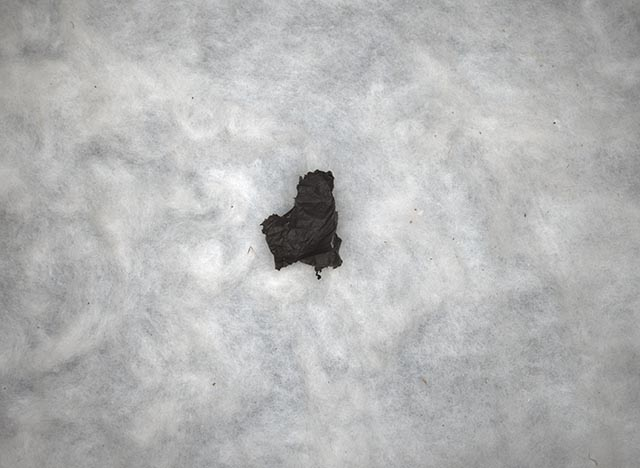plastic film: (260, 168, 343, 281)
